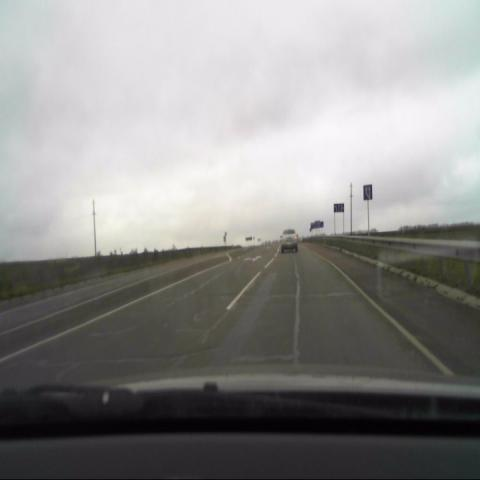5_15_1: (333, 200, 345, 214)
5_15_3: (362, 183, 373, 202)
